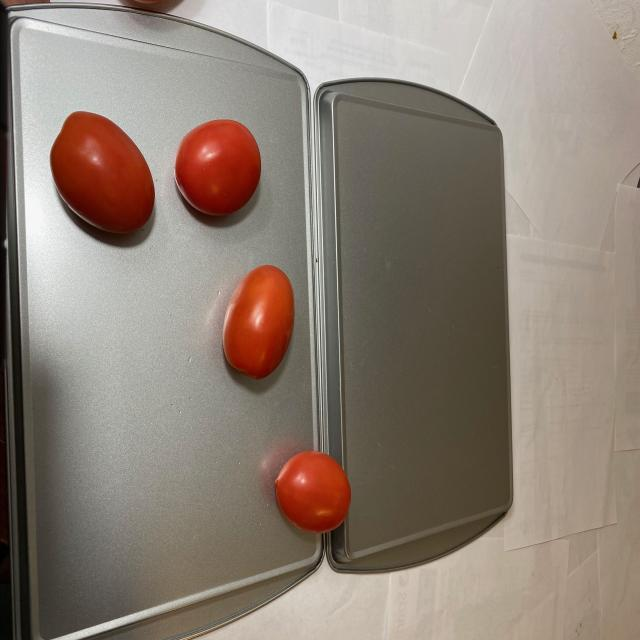tomato: (48, 103, 295, 377), (271, 444, 348, 532)
